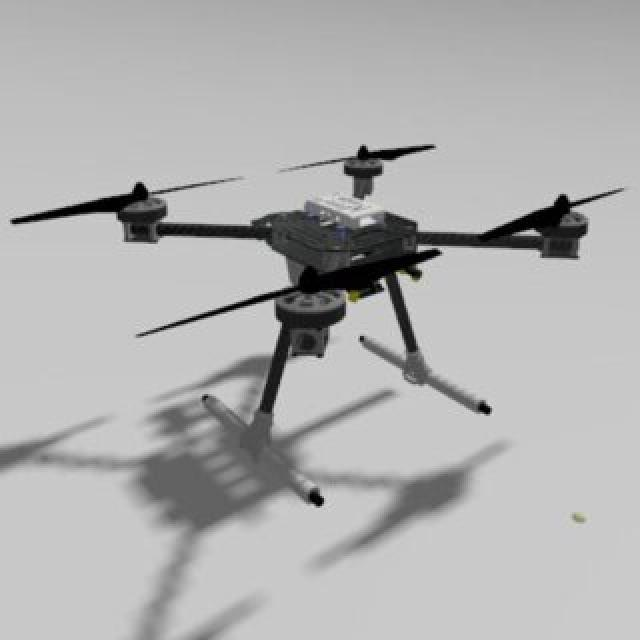drone: (3, 129, 629, 505)
